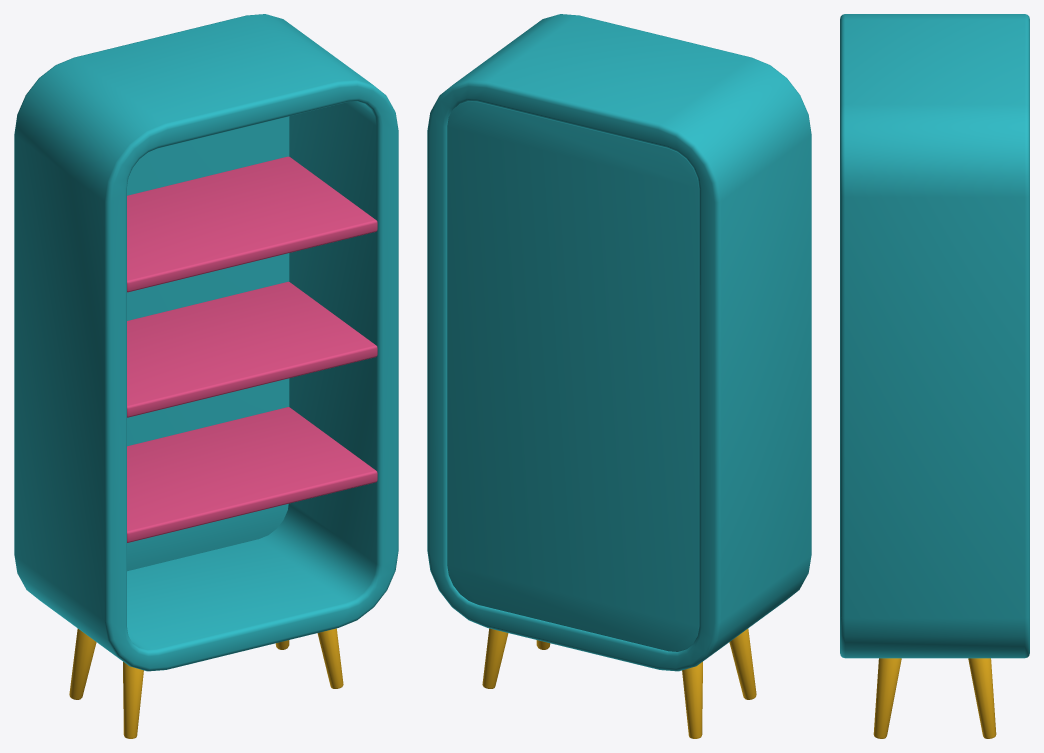
File: estante_retro_turquesa.glb
3 views of the same model, side by side, from view 1: azimuth 30°, elevation 25°; view 2: azimuth 150°, elevation 25°; view 3: azimuth 270°, elevation 25° (orthographic).
Parts seen in each view (by area): view 1: estante_retro_turquesa; view 2: estante_retro_turquesa; view 3: estante_retro_turquesa.
Part boxes in pixels (left/top/right/bottom): estante_retro_turquesa: left=14, top=14, right=398, bottom=738; estante_retro_turquesa: left=427, top=14, right=811, bottom=738; estante_retro_turquesa: left=840, top=14, right=1029, bottom=738.
Size of the model in its own units: 0.68 by 1.38 by 0.38.
1 material, 1 textured.
